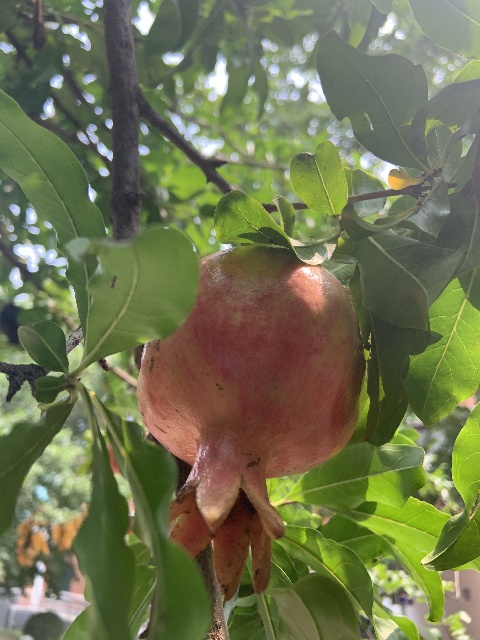ripe: (138, 244, 363, 599)
